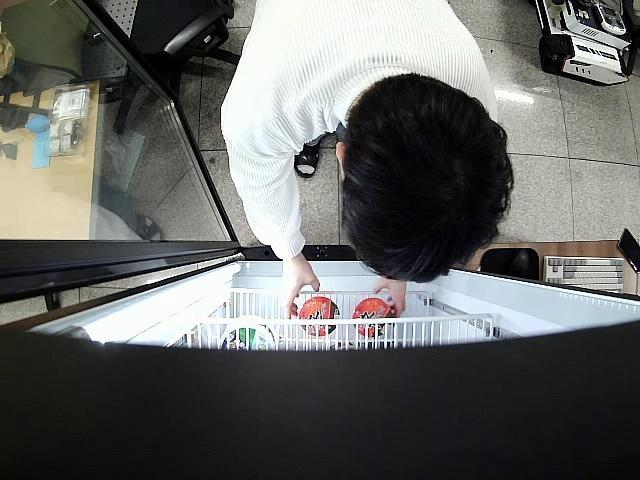02_shinRamen_S: (354, 299, 394, 338), (300, 296, 339, 334)
